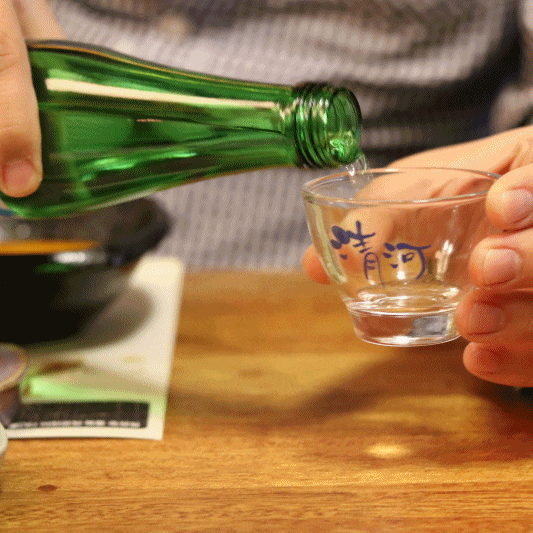soju: (2, 36, 372, 226)
